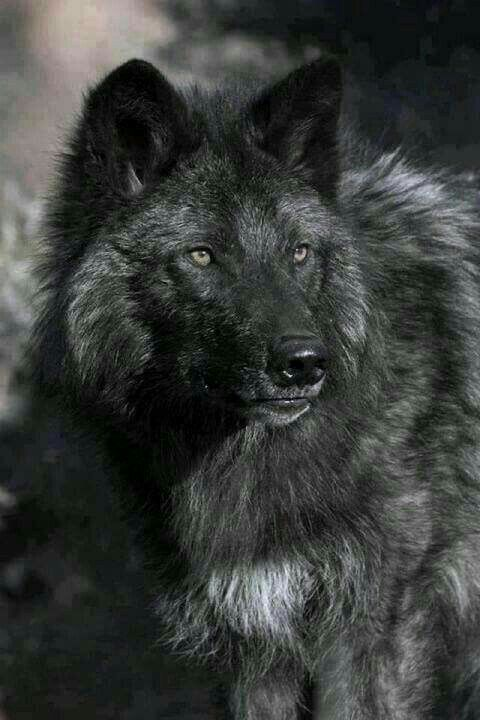Lobo: (39, 30, 387, 494)
